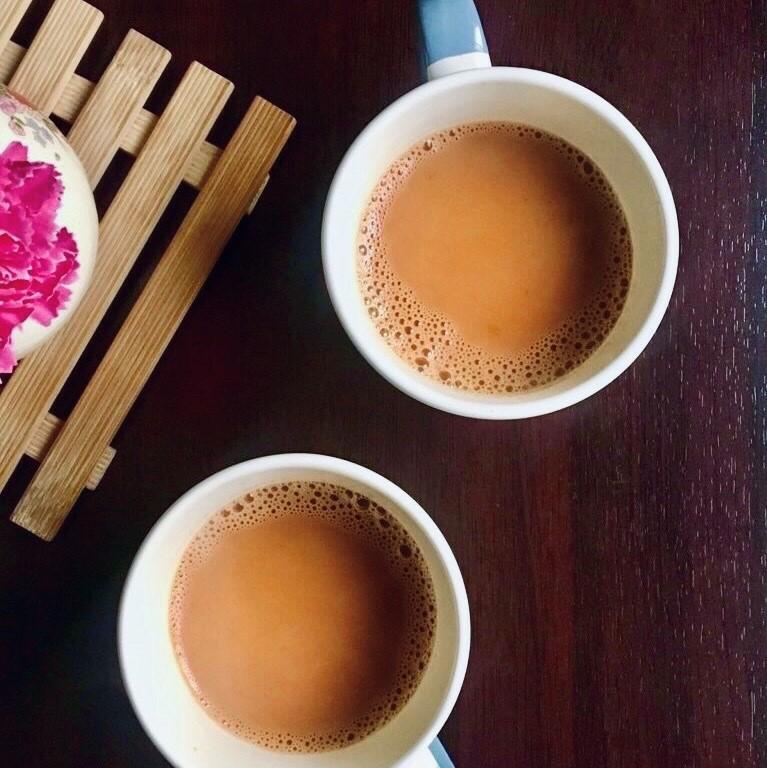Chai: (353, 116, 631, 401), (171, 486, 436, 744)
